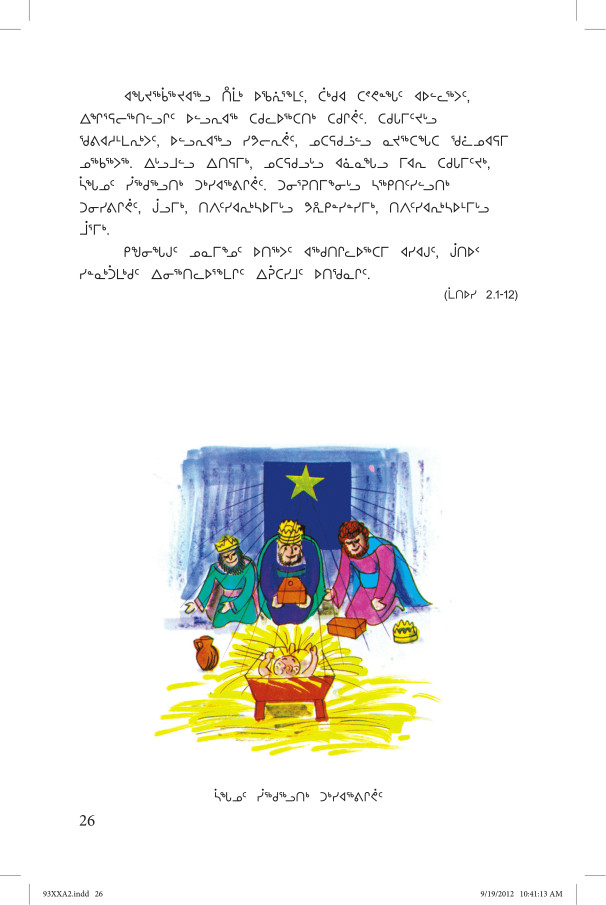inuktitut: (71, 80, 518, 283), (208, 782, 387, 813)
